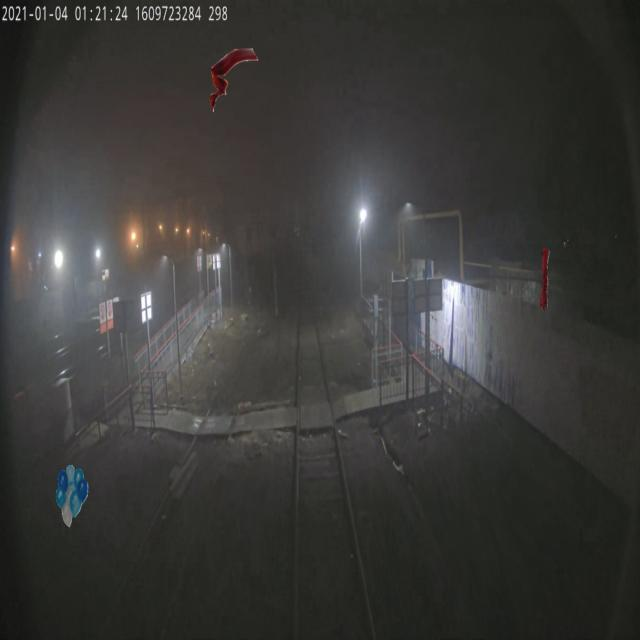balloon: (56, 464, 88, 528)
floating object: (209, 48, 259, 112), (539, 248, 550, 312)
